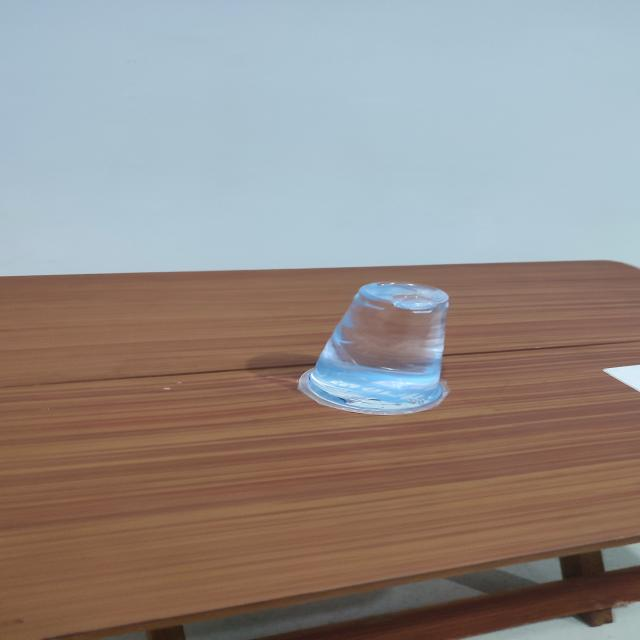air gelas: (292, 264, 452, 422)
